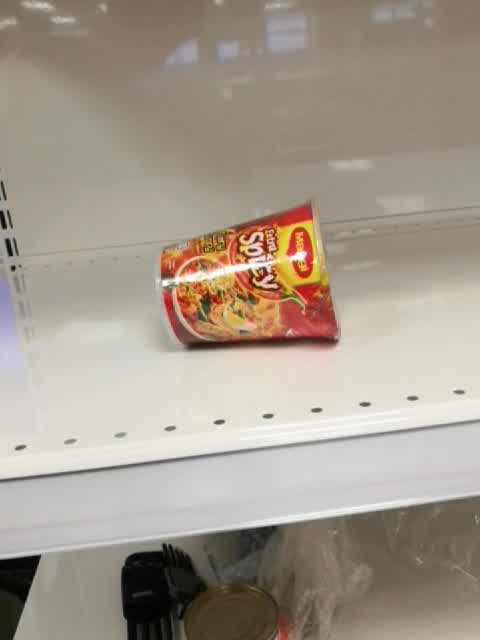maggi: (154, 195, 343, 349)
